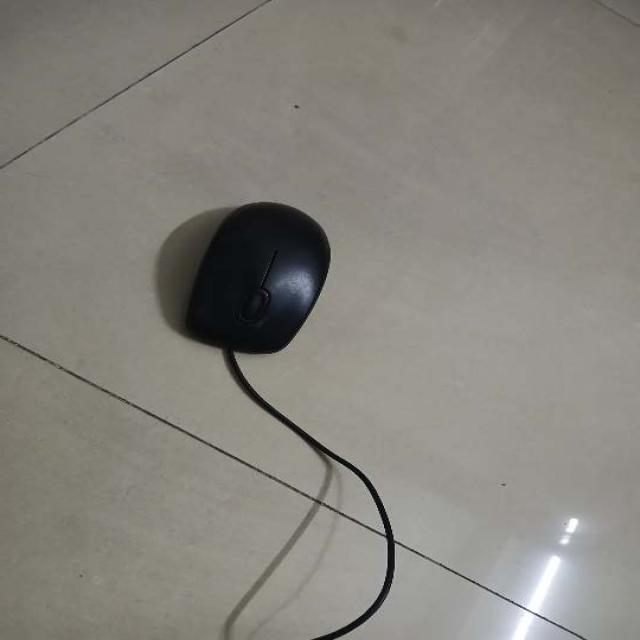mouse: (176, 194, 332, 356)
